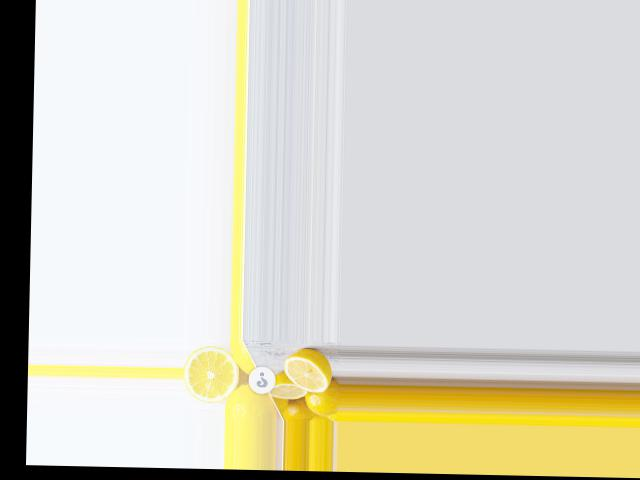lemon: (222, 381, 279, 419)
